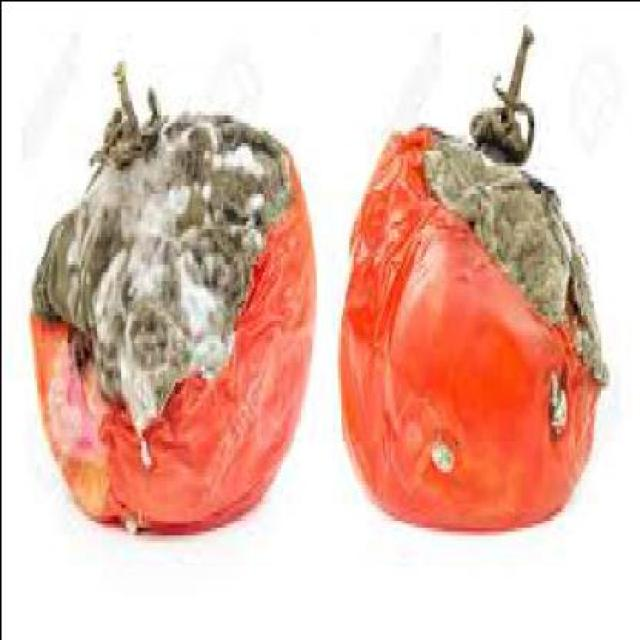BIODEGRADABLE: (31, 65, 309, 529), (337, 100, 608, 534)
